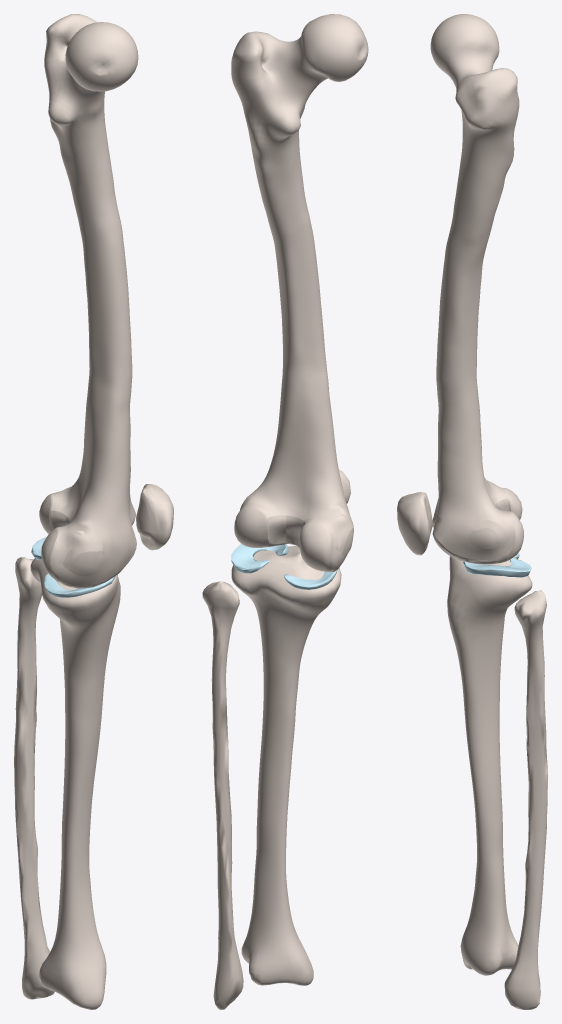
The model's file is vh_f_knee_l-80.glb.
3 views of the same model, side by side, from view 1: azimuth 90°, elevation 25°; view 2: azimuth 150°, elevation 25°; view 3: azimuth 270°, elevation 25° (orthographic). The views are drawn at different scales.
Parts seen in each view (by area): view 1: VH_F_femur_L, VH_F_tibia_L, VH_F_fibula_L, VH_F_patella_L, VH_F_meniscus_L, VH_F_medial_perichondular_surface_L, VH_F_medial_condyle_of_left_femur_inf, VH_F_articular_cartilage_of_knee_L, VH_F_medial_epicondylar_enthesis_L; view 2: VH_F_femur_L, VH_F_tibia_L, VH_F_fibula_L, VH_F_meniscus_L, VH_F_medial_condyle_of_left_femur_inf, VH_F_lateral_condyle_of_femur_inf_L, VH_F_anterior_cruciate_enthesis_L, VH_F_posterior_cruciate_enthesis_L; view 3: VH_F_femur_L, VH_F_tibia_L, VH_F_fibula_L, VH_F_patella_L, VH_F_meniscus_L, VH_F_lateral_perichondular_surface_L, VH_F_articular_cartilage_of_knee_L, VH_F_lateral_condyle_of_femur_inf_L.
Boxes of the visible parts, box(x1,y1,x2,y2) form: VH_F_femur_L: box(44, 14, 138, 584); VH_F_tibia_L: box(30, 558, 120, 1009); VH_F_fibula_L: box(14, 557, 54, 999); VH_F_patella_L: box(136, 484, 173, 550); VH_F_meniscus_L: box(31, 537, 115, 597); VH_F_medial_perichondular_surface_L: box(69, 550, 105, 575); VH_F_medial_condyle_of_left_femur_inf: box(41, 528, 59, 581); VH_F_articular_cartilage_of_knee_L: box(49, 493, 136, 586); VH_F_medial_epicondylar_enthesis_L: box(62, 542, 103, 569); VH_F_femur_L: box(231, 14, 368, 567); VH_F_tibia_L: box(231, 546, 341, 985); VH_F_fibula_L: box(202, 581, 243, 1009); VH_F_meniscus_L: box(231, 543, 337, 589); VH_F_medial_condyle_of_left_femur_inf: box(299, 524, 333, 570); VH_F_lateral_condyle_of_femur_inf_L: box(234, 506, 268, 547); VH_F_anterior_cruciate_enthesis_L: box(267, 515, 286, 544); VH_F_posterior_cruciate_enthesis_L: box(285, 515, 303, 547); VH_F_femur_L: box(430, 14, 519, 560); VH_F_tibia_L: box(447, 556, 532, 975); VH_F_fibula_L: box(504, 590, 547, 1009); VH_F_patella_L: box(397, 492, 432, 555); VH_F_meniscus_L: box(463, 552, 531, 577); VH_F_lateral_perichondular_surface_L: box(468, 527, 500, 549); VH_F_articular_cartilage_of_knee_L: box(432, 488, 515, 562); VH_F_lateral_condyle_of_femur_inf_L: box(505, 512, 523, 559).
Size of the model in its own units: 0.1016 by 0.7718 by 0.1105.
